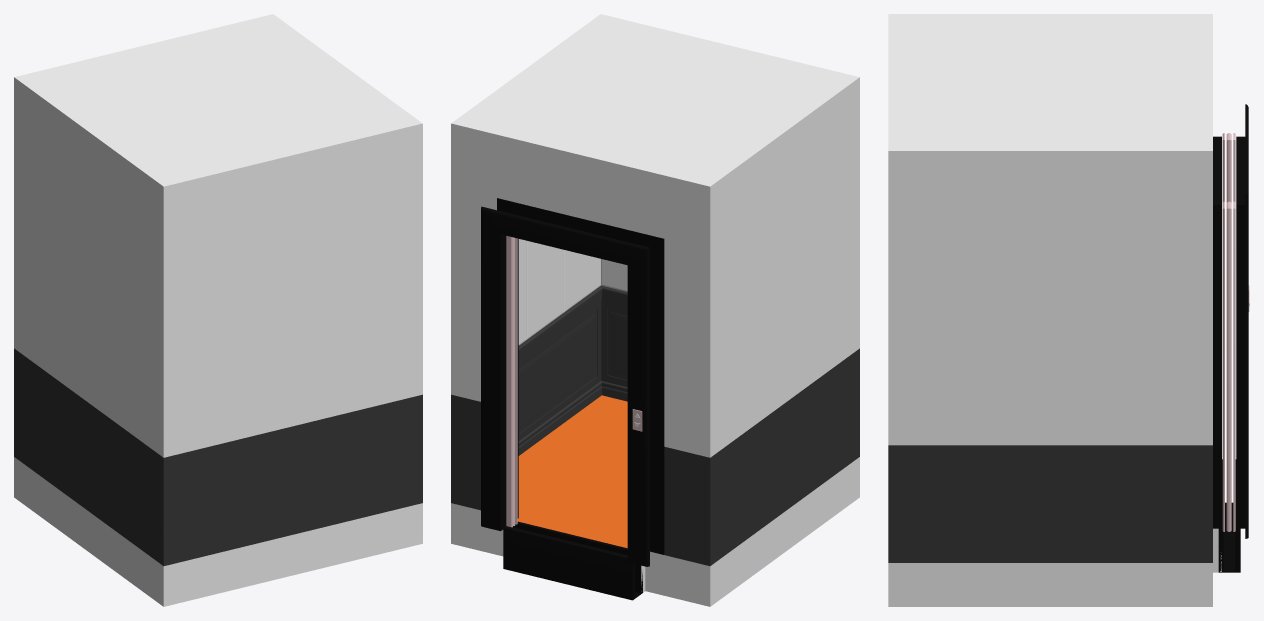
Rendered from Elevator.FBX.
The picture shows the model from 3 angles, left to right: view 1: azimuth 30°, elevation 25°; view 2: azimuth 150°, elevation 25°; view 3: azimuth 270°, elevation 25°; orthographic projection. The views are drawn at different scales.
Visible parts, largest first — view 1: Perila01, Rectangle1, Perila, Rectangle2; view 2: Rectangle1, Perila01, Perila, Rectangle2, Rectangle5, Rectangle3, Rectangle9, Rectangle8, Rectangle7, Rectangle6; view 3: Perila01, Rectangle1, Perila, Rectangle2, Rectangle5, Rectangle3, Rectangle7, Rectangle9, Rectangle8, Rectangle6.
Boxes of the visible parts, left/top/right/bottom form: Perila01: left=14, top=119, right=422, bottom=457; Rectangle1: left=14, top=14, right=422, bottom=249; Perila: left=14, top=348, right=422, bottom=565; Rectangle2: left=14, top=457, right=422, bottom=606; Rectangle1: left=451, top=14, right=859, bottom=249; Perila01: left=451, top=118, right=859, bottom=457; Perila: left=451, top=285, right=859, bottom=565; Rectangle2: left=451, top=395, right=859, bottom=606; Rectangle5: left=481, top=206, right=649, bottom=566; Rectangle3: left=497, top=198, right=664, bottom=554; Rectangle9: left=503, top=521, right=642, bottom=600; Rectangle8: left=506, top=236, right=512, bottom=527; Rectangle7: left=513, top=237, right=515, bottom=525; Rectangle6: left=515, top=238, right=517, bottom=524; Perila01: left=888, top=195, right=1212, bottom=445; Rectangle1: left=888, top=14, right=1212, bottom=219; Perila: left=888, top=445, right=1212, bottom=562; Rectangle2: left=888, top=528, right=1221, bottom=606; Rectangle5: left=1236, top=104, right=1248, bottom=538; Rectangle3: left=1213, top=136, right=1221, bottom=528; Rectangle7: left=1226, top=133, right=1231, bottom=531; Rectangle9: left=1218, top=459, right=1240, bottom=572; Rectangle8: left=1233, top=133, right=1235, bottom=531; Rectangle6: left=1222, top=133, right=1224, bottom=531.
Bounding box in the file's own units: 201 × 311 × 223.
